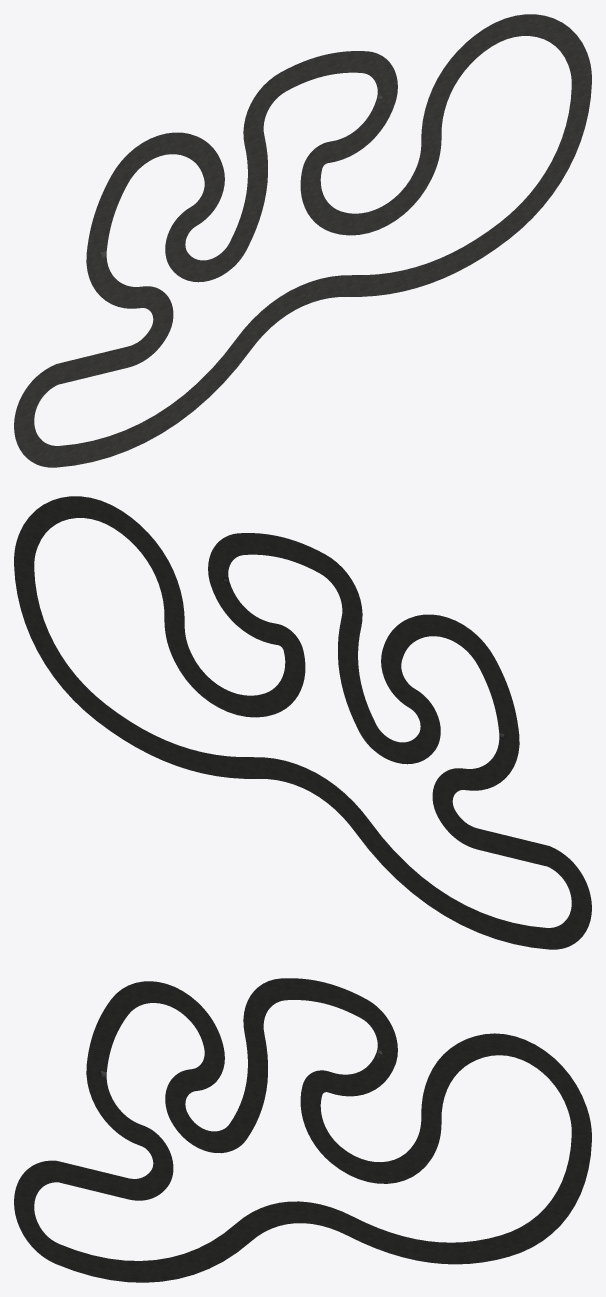
Rendered from track2_road.obj.
The picture shows the model from 3 angles, top to bottom: view 1: azimuth 30°, elevation 25°; view 2: azimuth 150°, elevation 25°; view 3: azimuth 330°, elevation 25°; orthographic projection.
Visible parts, largest first — view 1: road_0_curve_.003; view 2: road_0_curve_.003; view 3: road_0_curve_.003.
Boxes of the visible parts, bbox=[...] form: road_0_curve_.003: bbox=[14, 14, 591, 467]; road_0_curve_.003: bbox=[14, 496, 591, 949]; road_0_curve_.003: bbox=[14, 978, 591, 1282].
Bounding box in the file's own units: 46.71 × 27.07 × 0.
Materials: 1 (1 with a texture image).
